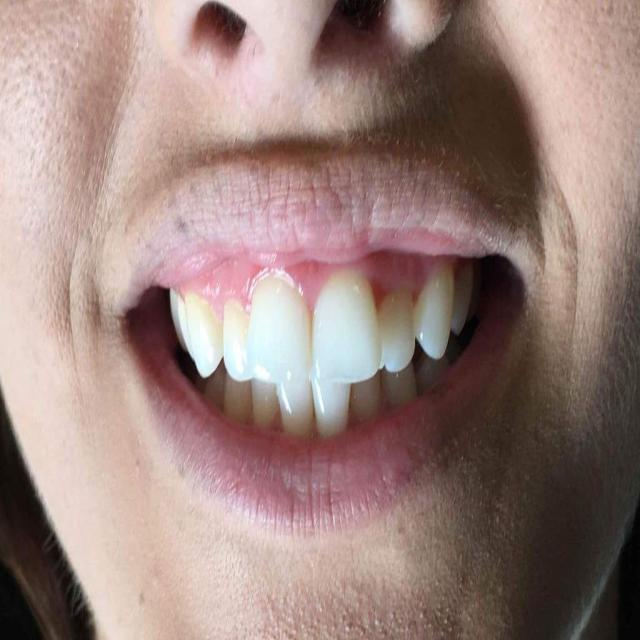tooth: (246, 264, 313, 376), (316, 271, 381, 383), (372, 284, 417, 372), (186, 290, 228, 378), (446, 258, 482, 344), (222, 290, 255, 378), (418, 270, 450, 358), (276, 378, 318, 438), (312, 376, 351, 440), (166, 294, 197, 362), (253, 372, 279, 430), (224, 372, 252, 424), (352, 380, 387, 420), (386, 371, 422, 404), (207, 366, 225, 414), (420, 351, 451, 378)
